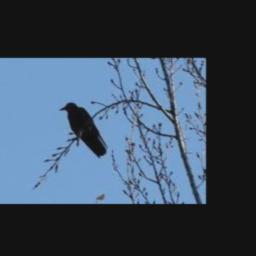Crow: (59, 102, 108, 159)
